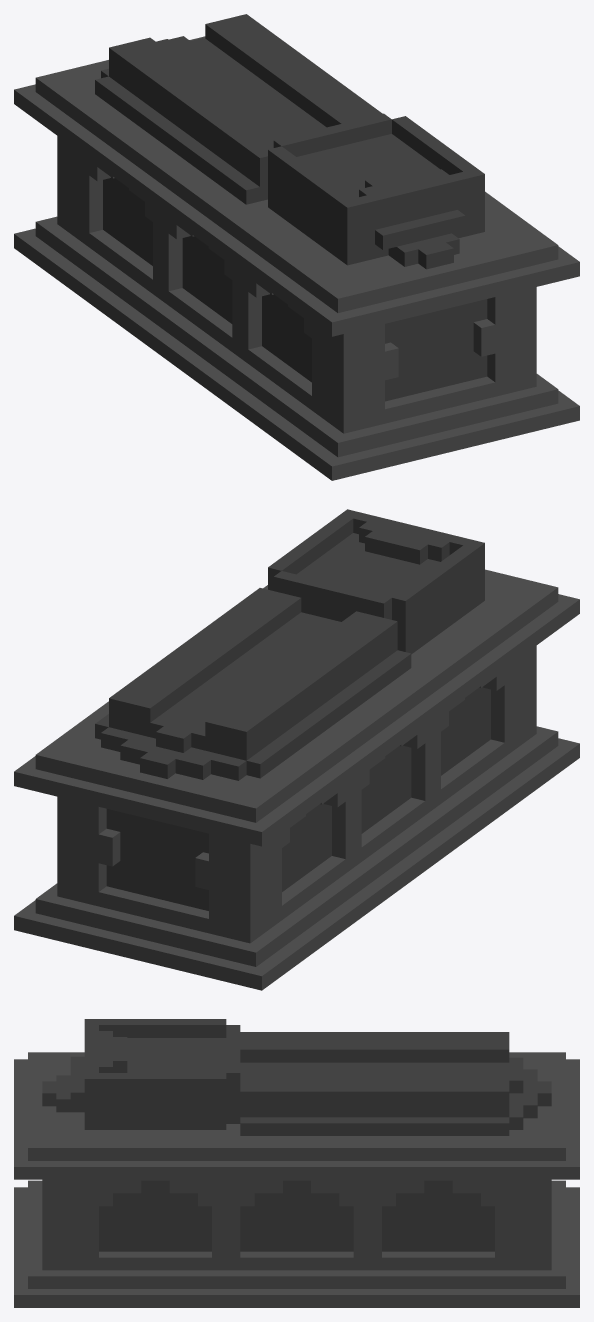
The model's file is Tumba 03.obj.
3 views of the same model, one above another, from view 1: azimuth 30°, elevation 25°; view 2: azimuth 150°, elevation 25°; view 3: azimuth 270°, elevation 25° (orthographic). The views are drawn at different scales.
Bounding box in the file's own units: 1.8 × 1.6 × 4.
Materials: 1 (1 with a texture image).
